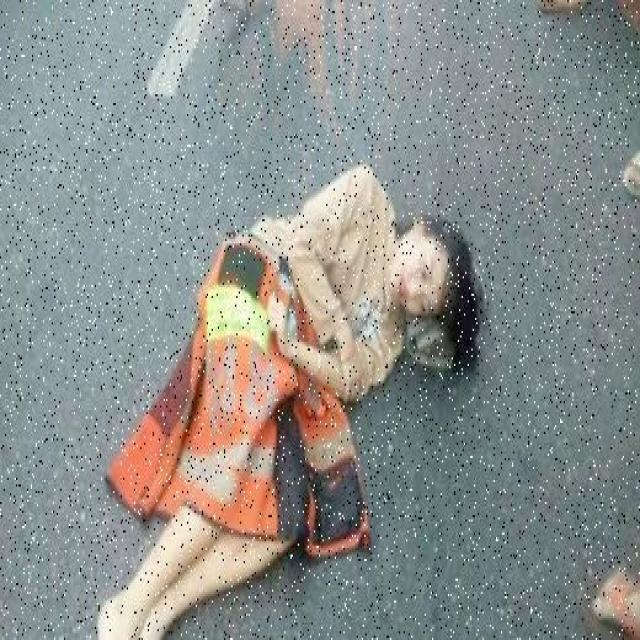fall: (81, 175, 462, 638)
